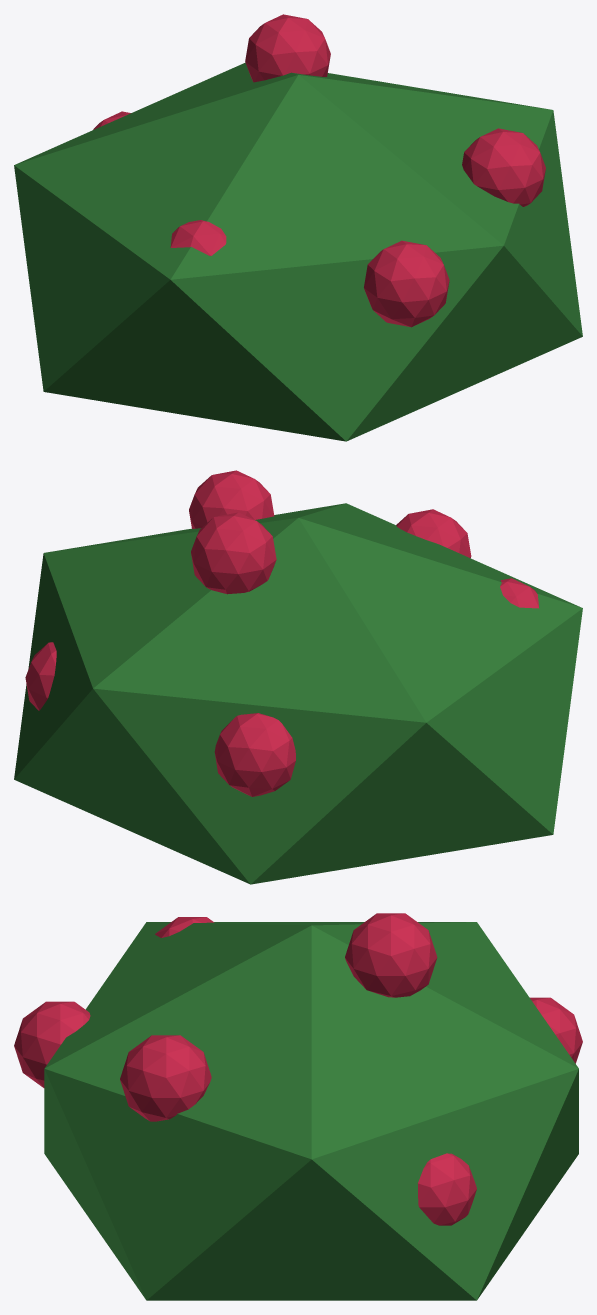
The model's file is berry_bush.obj.
3 views of the same model, one above another, from view 1: azimuth 30°, elevation 25°; view 2: azimuth 150°, elevation 25°; view 3: azimuth 270°, elevation 25° (orthographic). The views are drawn at different scales.
Parts seen in each view (by area): view 1: part_0, part_6, part_1, part_3, part_2; view 2: part_0, part_3, part_4, part_1, part_6, part_5, part_2; view 3: part_0, part_3, part_1, part_6, part_5, part_4, part_2.
Part boxes in pixels (x1,y1,x2,y2): part_0: (14, 62, 582, 441); part_6: (364, 240, 449, 327); part_1: (462, 128, 545, 206); part_3: (245, 14, 330, 82); part_2: (170, 220, 226, 255); part_0: (14, 503, 582, 884); part_3: (191, 512, 276, 594); part_4: (214, 713, 295, 796); part_1: (189, 470, 274, 528); part_6: (396, 509, 471, 557); part_5: (25, 642, 56, 710); part_2: (500, 578, 538, 608); part_0: (44, 922, 578, 1300); part_3: (345, 913, 437, 997); part_1: (120, 1035, 211, 1121); part_6: (14, 1001, 90, 1087); part_5: (417, 1153, 476, 1225); part_4: (530, 997, 582, 1063); part_2: (155, 917, 214, 937).
Bounding box in the file's own units: 0.9391 × 0.66 × 0.86.
